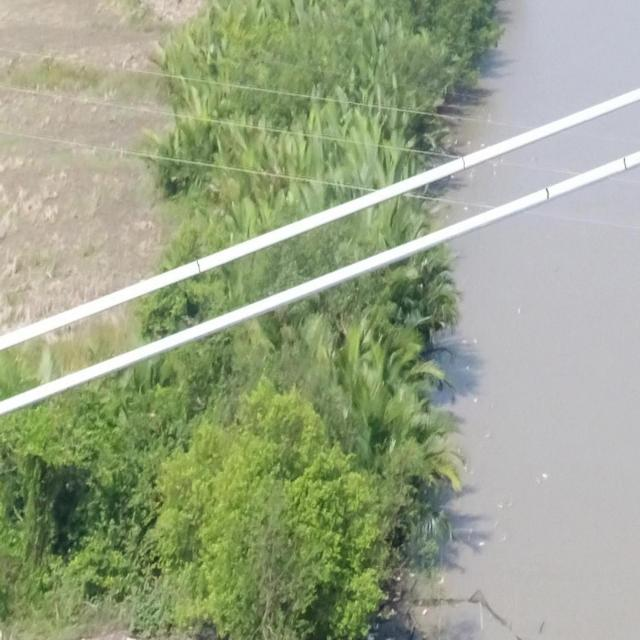crack: (196, 260, 201, 274), (461, 157, 466, 170), (623, 157, 628, 170), (545, 188, 550, 201)
